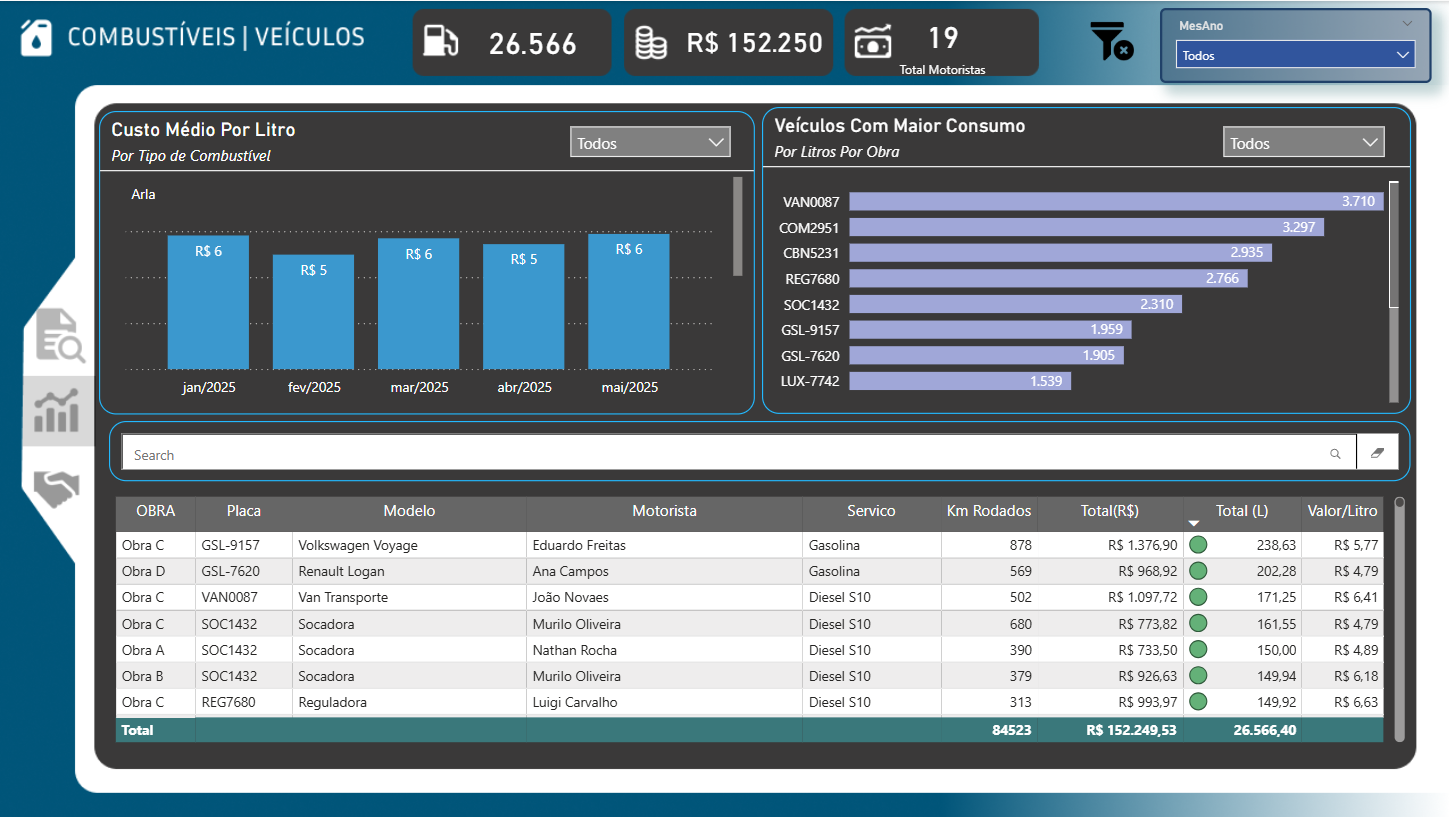

The page's visual inventory and layout, read from the dashboard file:
{"tool":"powerbi","page":{"name":"Veículos","canvas":[1280,720],"ordinal":1},"visuals":[{"type":"card","fields":{"Values":["MEDIDAS.Total(R$)"]},"box":[583.9,6.1,159.8,58.8],"z":0},{"type":"card","fields":{"Values":["MEDIDAS.Total (L)"]},"box":[389,6.1,159.8,58.8],"z":1000},{"type":"barChart","title":"Ranking 10 Veículos Com Maior Consumo","fields":{"Category":["T_Log_2025.Placa"],"Y":["MEDIDAS.Total (L)"]},"box":[86.6,94.3,351.1,275.3],"z":2000},{"type":"slicer","title":"MÉDIA PESSOAS ALOJADAS/DIA","fields":{"Values":["CALENDARIO.MesAno"]},"box":[1020.3,5.8,239.3,66.1],"z":3000},{"type":"lineChart","title":"Custo Médio Por Litro","fields":{"Category":["T_Log_2025.Servico","CALENDARIO.DATA.Variation.Hierarquia de datas.Ano","CALENDARIO.DATA.Variation.Hierarquia de datas.Trimestre","CALENDARIO.DATA.Variation.Hierarquia de datas.Mês","CALENDARIO.DATA.Variation.Hierarquia de datas.Dia"],"Y":["MEDIDAS.TickeMédio"]},"box":[848.1,94.3,392.9,275.3],"z":4000},{"type":"tableEx","title":"Resumo","fields":{"Values":["T_Log_2025.Placa","T_Log_2025.Modelo","T_Log_2025.Servico","Sum(T_Log_2025.Km Rodados)","T_Log_2025.Valor/Litro","MEDIDAS.Total (L)","MEDIDAS.Total(R$)","T_Log_2025.OBRA","T_Log_2025.Motorista"]},"box":[503.8,430.9,737.3,226.6],"z":5000},{"type":"slicer","fields":{"Values":["T_Log_2025.Servico"]},"box":[1080.9,108.9,160.7,65],"z":6000},{"type":"areaChart","title":"Gastos com Combustível por Mês","fields":{"Category":["CALENDARIO.DATA.Variation.Hierarquia de datas.Ano","CALENDARIO.DATA.Variation.Hierarquia de datas.Trimestre","CALENDARIO.DATA.Variation.Hierarquia de datas.Mês","CALENDARIO.DATA.Variation.Hierarquia de datas.Dia","T_Log_2025.OBRA"],"Y":["MEDIDAS.Total(R$)","MEDIDAS.Total (L)"]},"box":[445.5,94.3,393.9,275.3],"z":7000},{"type":"image","box":[954.2,11.7,47.7,47.7],"z":8000},{"type":"slicer","fields":{"Values":["T_Log_2025.OBRA"]},"box":[677,108.9,162.4,57.1],"z":9000},{"type":"actionButton","box":[25.3,275.3,52.5,38.9],"z":10000},{"type":"actionButton","box":[25.3,339.5,52.5,38.9],"z":11000},{"type":"actionButton","box":[25.5,411.8,52.7,38.6],"z":12000},{"type":"card","fields":{"Values":["MEDIDAS.Motoristastotal"]},"box":[749.9,0,159.5,76.8],"z":13000},{"type":"textFilter25A4896A83E0487089E2B90C9AE57C8A","fields":{"field":["T_Log_2025.Placa"]},"box":[503.8,369.6,737.3,52.5],"z":14000},{"type":"areaChart","title":"Top 3 Cidades com Menor Valor/Litro","fields":{"Category":["T_Log_2025.Cidade","CALENDARIO.MesAno"],"Y":["MEDIDAS.MediaKM/Litro"]},"box":[95.3,378.4,397.8,288.9],"z":15000},{"type":"slicer","fields":{"Values":["T_Log_2025.Placa"]},"box":[331.7,393.9,161.5,55.4],"z":16000}]}

Visuals, with their boxes in screenshot pixels (x1, y1, x2, y2), scaled from the page's 1280x720 canvas onto the 1449x817 screenshot:
card - MEDIDAS.Total(R$): (x1=661, y1=7, x2=842, y2=74)
card - MEDIDAS.Total (L): (x1=440, y1=7, x2=621, y2=74)
"Ranking 10 Veículos Com Maior Consumo" barChart: (x1=98, y1=107, x2=495, y2=419)
"MÉDIA PESSOAS ALOJADAS/DIA" slicer: (x1=1155, y1=7, x2=1426, y2=82)
"Custo Médio Por Litro" lineChart: (x1=960, y1=107, x2=1405, y2=419)
"Resumo" tableEx: (x1=570, y1=489, x2=1405, y2=746)
slicer - T_Log_2025.Servico: (x1=1224, y1=124, x2=1406, y2=197)
"Gastos com Combustível por Mês" areaChart: (x1=504, y1=107, x2=950, y2=419)
image: (x1=1080, y1=13, x2=1134, y2=67)
slicer - T_Log_2025.OBRA: (x1=766, y1=124, x2=950, y2=188)
actionButton: (x1=29, y1=312, x2=88, y2=357)
actionButton: (x1=29, y1=385, x2=88, y2=429)
actionButton: (x1=29, y1=467, x2=89, y2=511)
card - MEDIDAS.Motoristastotal: (x1=849, y1=0, x2=1029, y2=87)
textFilter25A4896A83E0487089E2B90C9AE57C8A - T_Log_2025.Placa: (x1=570, y1=419, x2=1405, y2=479)
"Top 3 Cidades com Menor Valor/Litro" areaChart: (x1=108, y1=429, x2=558, y2=757)
slicer - T_Log_2025.Placa: (x1=375, y1=447, x2=558, y2=510)
